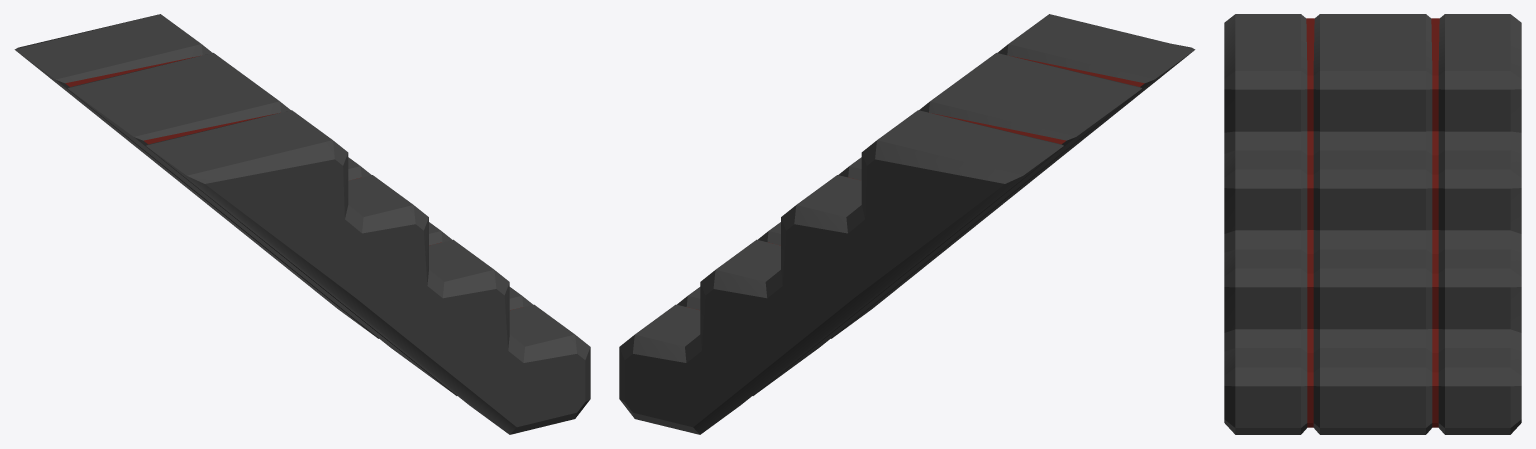
The model's file is sm_stair.fbx.
3 renders of one model, left to right at view 1: azimuth 30°, elevation 25°; view 2: azimuth 150°, elevation 25°; view 3: azimuth 270°, elevation 25°, orthographic. The views are drawn at different scales.
Parts seen in each view (by area): view 1: stair; view 2: stair; view 3: stair.
Boxes of the visible parts, x1=… form: stair: x1=14, y1=14, x2=590, y2=434; stair: x1=619, y1=14, x2=1195, y2=434; stair: x1=1224, y1=14, x2=1521, y2=434.
Size of the model in its own units: 125 by 100 by 100.
